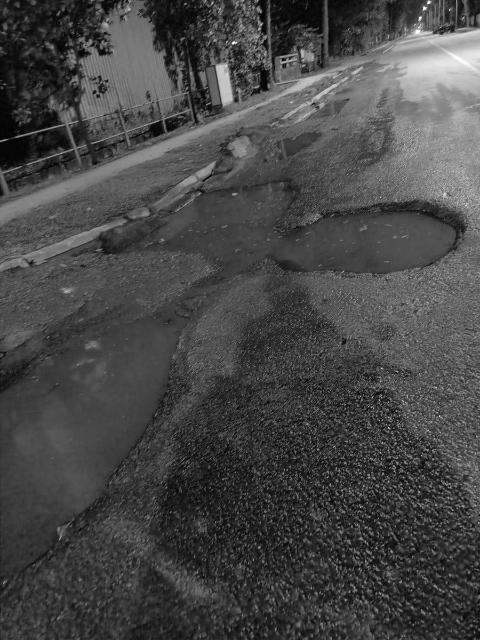Pothole: (0, 294, 202, 588), (268, 203, 476, 281), (119, 176, 304, 258), (257, 129, 326, 163), (355, 121, 395, 162), (305, 97, 351, 123)
